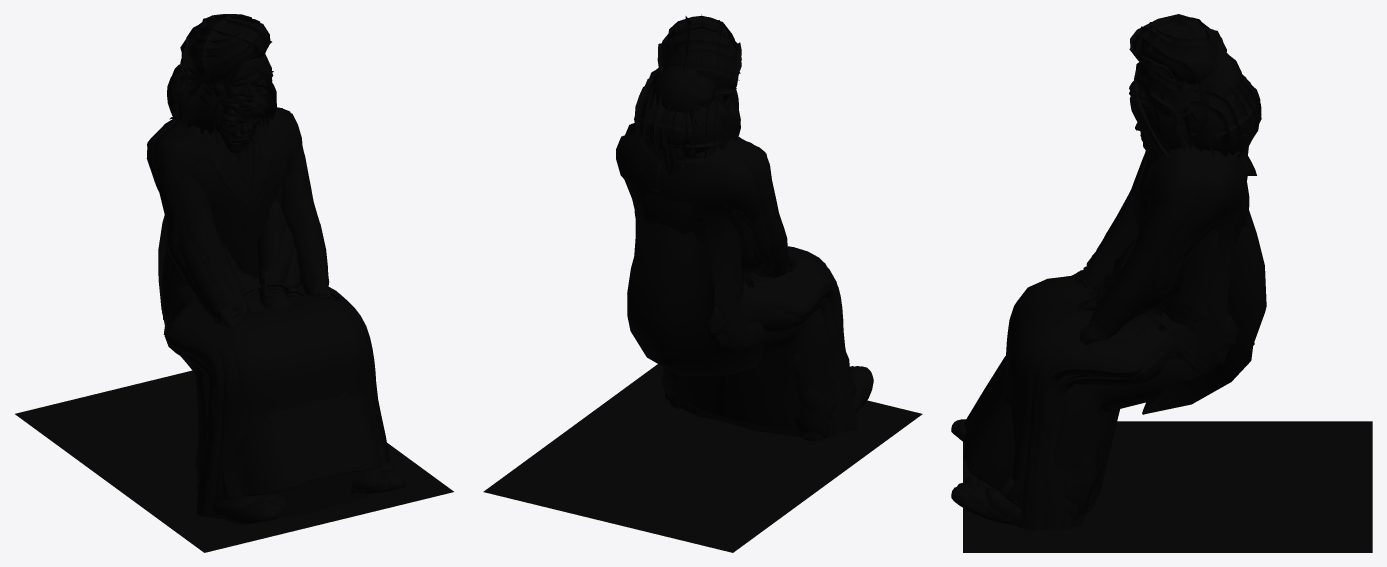
File: audience.glb
3 renders of one model, left to right at view 1: azimuth 30°, elevation 25°; view 2: azimuth 150°, elevation 25°; view 3: azimuth 270°, elevation 25°, orthographic. The views are drawn at different scales.
Visible parts, largest first — view 1: Avondjurk (×4), Contactschaduw, Female_Adult_10 · body (×2), Business_Male_02 · body (×2), Business_Male_03 · body (×2), Business_Male_05 · body (×2), Business_Male_01 · body (×2), Male_Adult_04 · opacity, Business_Male_04 · body (×3), Female_Party_02 · opacity (×2), Male_Adult_04 · head, Male_Adult_13 · head; view 2: Contactschaduw, Female_Adult_10 · body (×2), Avondjurk (×4), Business_Male_03 · body (×2), Business_Male_05 · body (×2), Business_Male_01 · body, Male_Adult_04 · opacity, Female_Party_02 · opacity, Business_Male_02 · body (×2), Business_Female_01 · body, Male_Adult_04 · head, Business_Male_01 · head (+5 smaller); view 3: Contactschaduw, Avondjurk (×5), Female_Adult_10 · body (×2), Business_Male_03 · body (×2), Business_Male_05 · body (×2), Male_Adult_04 · opacity (×2), Business_Male_02 · body (×2), Female_Party_02 · opacity (×2), Business_Male_01 · body (×4), Female_Party_02 · head (×2), Business_Female_03 · body (×2), Rok (+3 smaller).
Part boxes in pixels (<box>): Avondjurk (×4): <box>165,277,389,519</box>; Contactschaduw: <box>15,370,453,552</box>; Female_Adult_10 · body (×2): <box>158,123,388,503</box>; Business_Male_02 · body (×2): <box>152,107,405,524</box>; Business_Male_03 · body (×2): <box>156,109,388,512</box>; Business_Male_05 · body (×2): <box>146,107,383,520</box>; Business_Male_01 · body (×2): <box>167,112,388,516</box>; Male_Adult_04 · opacity: <box>180,14,271,86</box>; Business_Male_04 · body (×3): <box>175,114,392,508</box>; Female_Party_02 · opacity (×2): <box>167,59,276,134</box>; Male_Adult_04 · head: <box>191,21,267,97</box>; Male_Adult_13 · head: <box>223,59,254,113</box>; Contactschaduw: <box>483,364,922,552</box>; Female_Adult_10 · body (×2): <box>627,219,856,427</box>; Avondjurk (×4): <box>665,246,857,438</box>; Business_Male_03 · body (×2): <box>631,123,860,440</box>; Business_Male_05 · body (×2): <box>616,123,797,321</box>; Business_Male_01 · body: <box>621,147,797,266</box>; Male_Adult_04 · opacity: <box>657,14,741,102</box>; Female_Party_02 · opacity: <box>634,69,731,166</box>; Business_Male_02 · body (×2): <box>629,123,873,438</box>; Business_Female_01 · body: <box>639,194,752,347</box>; Male_Adult_04 · head: <box>665,23,735,96</box>; Business_Male_01 · head: <box>654,65,714,113</box>; Contactschaduw: <box>963,421,1372,552</box>; Avondjurk (×5): <box>1005,275,1238,530</box>; Female_Adult_10 · body (×2): <box>963,150,1266,504</box>; Business_Male_03 · body (×2): <box>999,147,1228,529</box>; Business_Male_05 · body (×2): <box>984,146,1241,490</box>; Male_Adult_04 · opacity (×2): <box>1129,14,1227,127</box>; Business_Male_02 · body (×2): <box>951,149,1228,524</box>; Female_Party_02 · opacity (×2): <box>1130,74,1259,159</box>; Business_Male_01 · body (×4): <box>955,152,1247,521</box>; Female_Party_02 · head (×2): <box>1139,97,1240,150</box>; Business_Female_03 · body (×2): <box>1085,227,1236,364</box>; Rok: <box>1043,336,1195,441</box>.
Bounding box in the file's own units: 0.95 × 1.6 × 1.29.
1 material, 1 textured.
